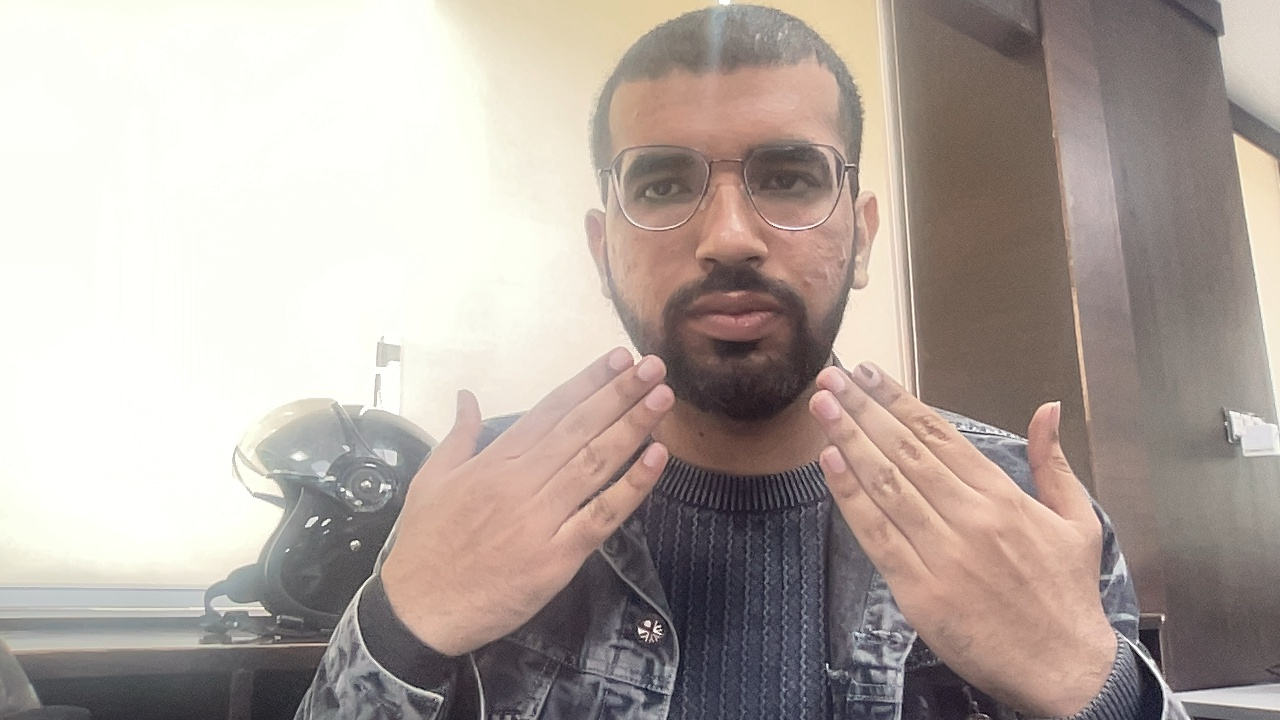Thank You: (277, 326, 1168, 707)
